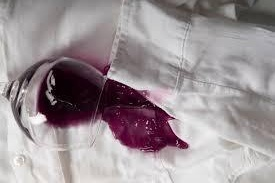wine: (57, 76, 179, 144), (111, 104, 186, 156)
